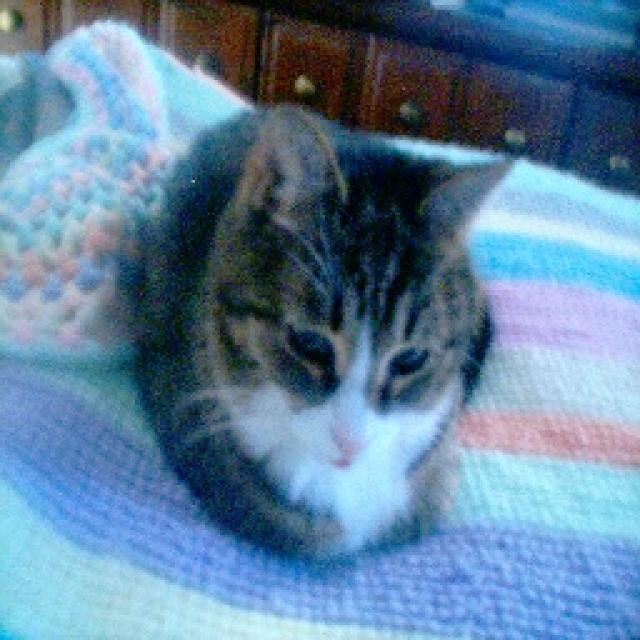cat: (130, 96, 514, 566)
